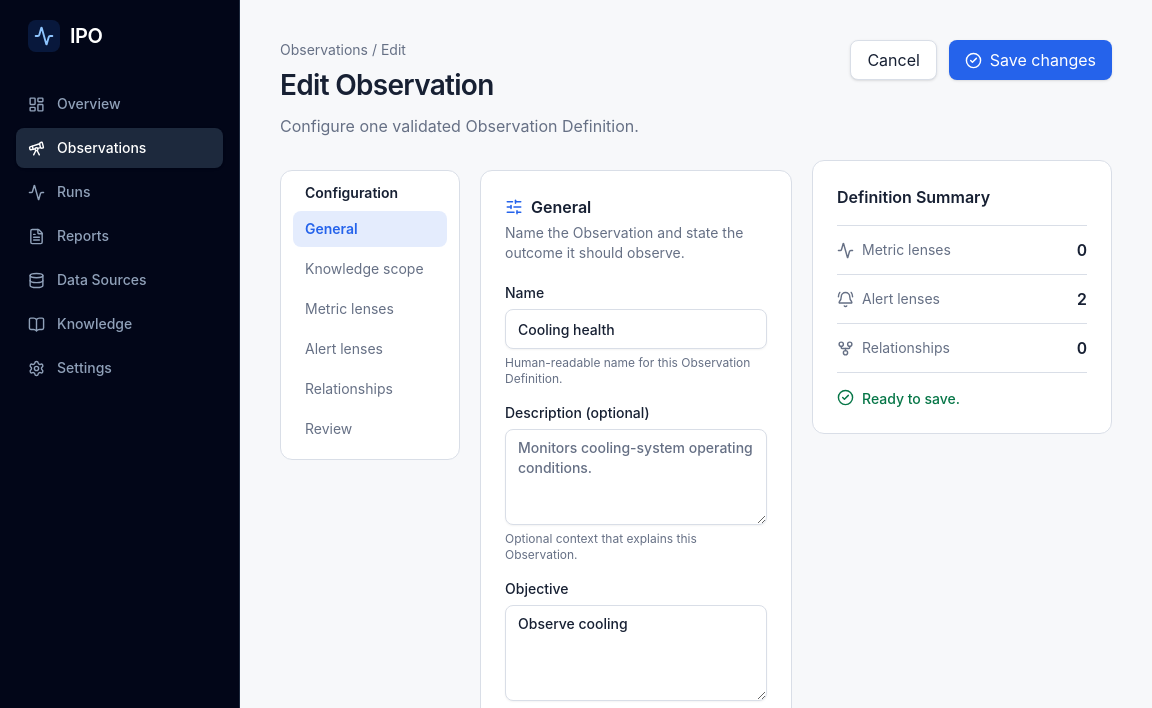
Observation aggregate editing › cancels the top-level edit without a write and returns to the persisted detail
expect the field labelled "Name" is shown: met, box left=505, top=309, right=767, bottom=349
Click the button "Cancel".
click(894, 60)  # box left=850, top=40, right=937, bottom=80
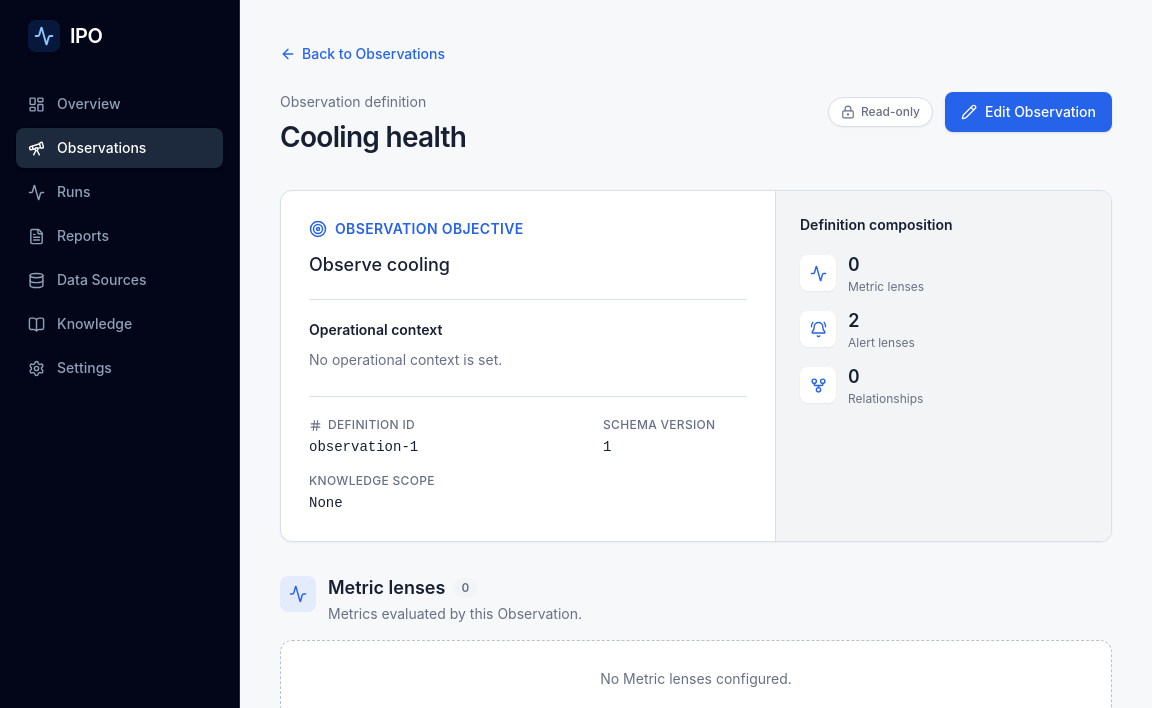
expect the text "Read-only" is shown: met, box left=828, top=97, right=933, bottom=127
